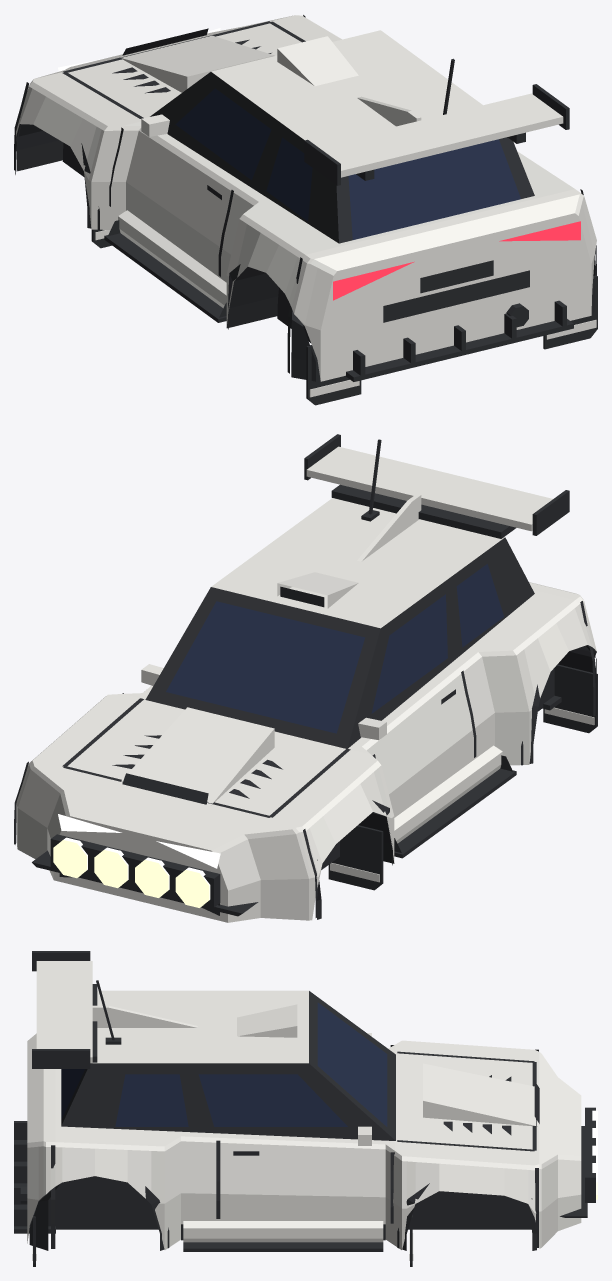
The model's file is Kaze.glb.
3 renders of one model, top to bottom at view 1: azimuth 30°, elevation 25°; view 2: azimuth 150°, elevation 25°; view 3: azimuth 270°, elevation 25°, orthographic. The views are drawn at different scales.
Visible parts, largest first — view 1: BumperRear, Roof, Door_FL, RearWindow, Opt_Wing_Rally_WingBlade, Pillars, Hood, Fender_FL, Cowl, Fender_RL, Window_FL, Opt_Hood_Scoop_HoodScoop (+21 smaller); view 2: BumperFront, Roof, Windshield, Hood, Pillars, Fender_RL, Door_FL, Opt_Wing_Rally_WingBlade, Opt_Hood_Scoop_HoodScoop, Fender_FL, Opt_Mudflaps_Long_AccMudflapsLong, Window_FL (+16 smaller); view 3: Door_FR, Roof, Pillars, Hood, Fender_RR, WheelWell, BumperFront, Window_FR, Fender_FR, Opt_Hood_Scoop_HoodScoop, Opt_Wing_Rally_WingBlade, Windshield (+16 smaller).
Boxes of the visible parts, box(x1,y1,x2,y2) form: BumperRear: box(291, 191, 596, 381); Roof: box(211, 30, 482, 145); Door_FL: box(106, 126, 238, 279); RearWindow: box(348, 139, 520, 239); Opt_Wing_Rally_WingBlade: box(317, 93, 563, 177); Pillars: box(150, 72, 534, 243); Hood: box(32, 15, 341, 126); Fender_FL: box(16, 79, 122, 229); Cowl: box(123, 121, 574, 254); Fender_RL: box(222, 189, 307, 326); Window_FL: box(175, 88, 271, 180); Opt_Hood_Scoop_HoodScoop: box(119, 35, 274, 92); BumperFront: box(17, 764, 312, 922); Roof: box(211, 498, 504, 628); Windshield: box(166, 601, 365, 733); Hood: box(32, 694, 377, 827); Pillars: box(145, 537, 534, 748); Fender_RL: box(458, 598, 593, 765); Door_FL: box(362, 668, 474, 817); Opt_Wing_Rally_WingBlade: box(306, 446, 552, 531); Opt_Hood_Scoop_HoodScoop: box(119, 707, 274, 805); Fender_FL: box(296, 760, 394, 918); Opt_Mudflaps_Long_AccMudflapsLong: box(328, 664, 597, 890); Window_FL: box(371, 594, 447, 713); Door_FR: box(216, 1137, 394, 1245); Roof: box(93, 990, 308, 1063); Pillars: box(61, 991, 395, 1140); Hood: box(395, 1040, 539, 1165); Fender_RR: box(50, 1136, 215, 1249); WheelWell: box(30, 1176, 534, 1229); BumperFront: box(539, 1052, 581, 1248); Window_FR: box(198, 1074, 347, 1126); Fender_FR: box(395, 1151, 539, 1249); Opt_Hood_Scoop_HoodScoop: box(423, 1063, 539, 1126); Opt_Wing_Rally_WingBlade: box(36, 961, 92, 1063); Windshield: box(317, 1002, 387, 1126).
Size of the model in its own units: 6.66 by 5.76 by 12.55.
